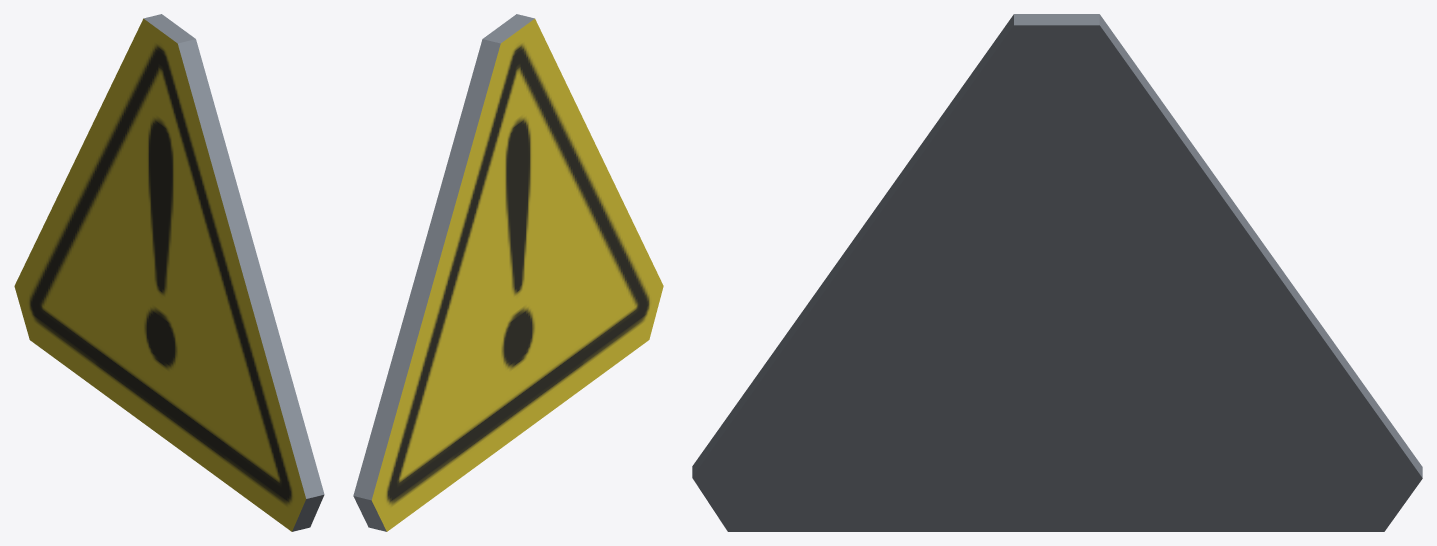
Rendered from Warning Triangle Sign.fbx.
3 renders of one model, left to right at view 1: azimuth 30°, elevation 25°; view 2: azimuth 150°, elevation 25°; view 3: azimuth 270°, elevation 25°, orthographic. The views are drawn at different scales.
Parts seen in each view (by area): view 1: Warning triangle Sign; view 2: Warning triangle Sign; view 3: Warning triangle Sign.
Boxes of the visible parts, <box> form: Warning triangle Sign: <box>14,14,324,531</box>; Warning triangle Sign: <box>353,14,663,531</box>; Warning triangle Sign: <box>692,14,1422,531</box>.
Size of the model in its own units: 5.2 by 110 by 143.
